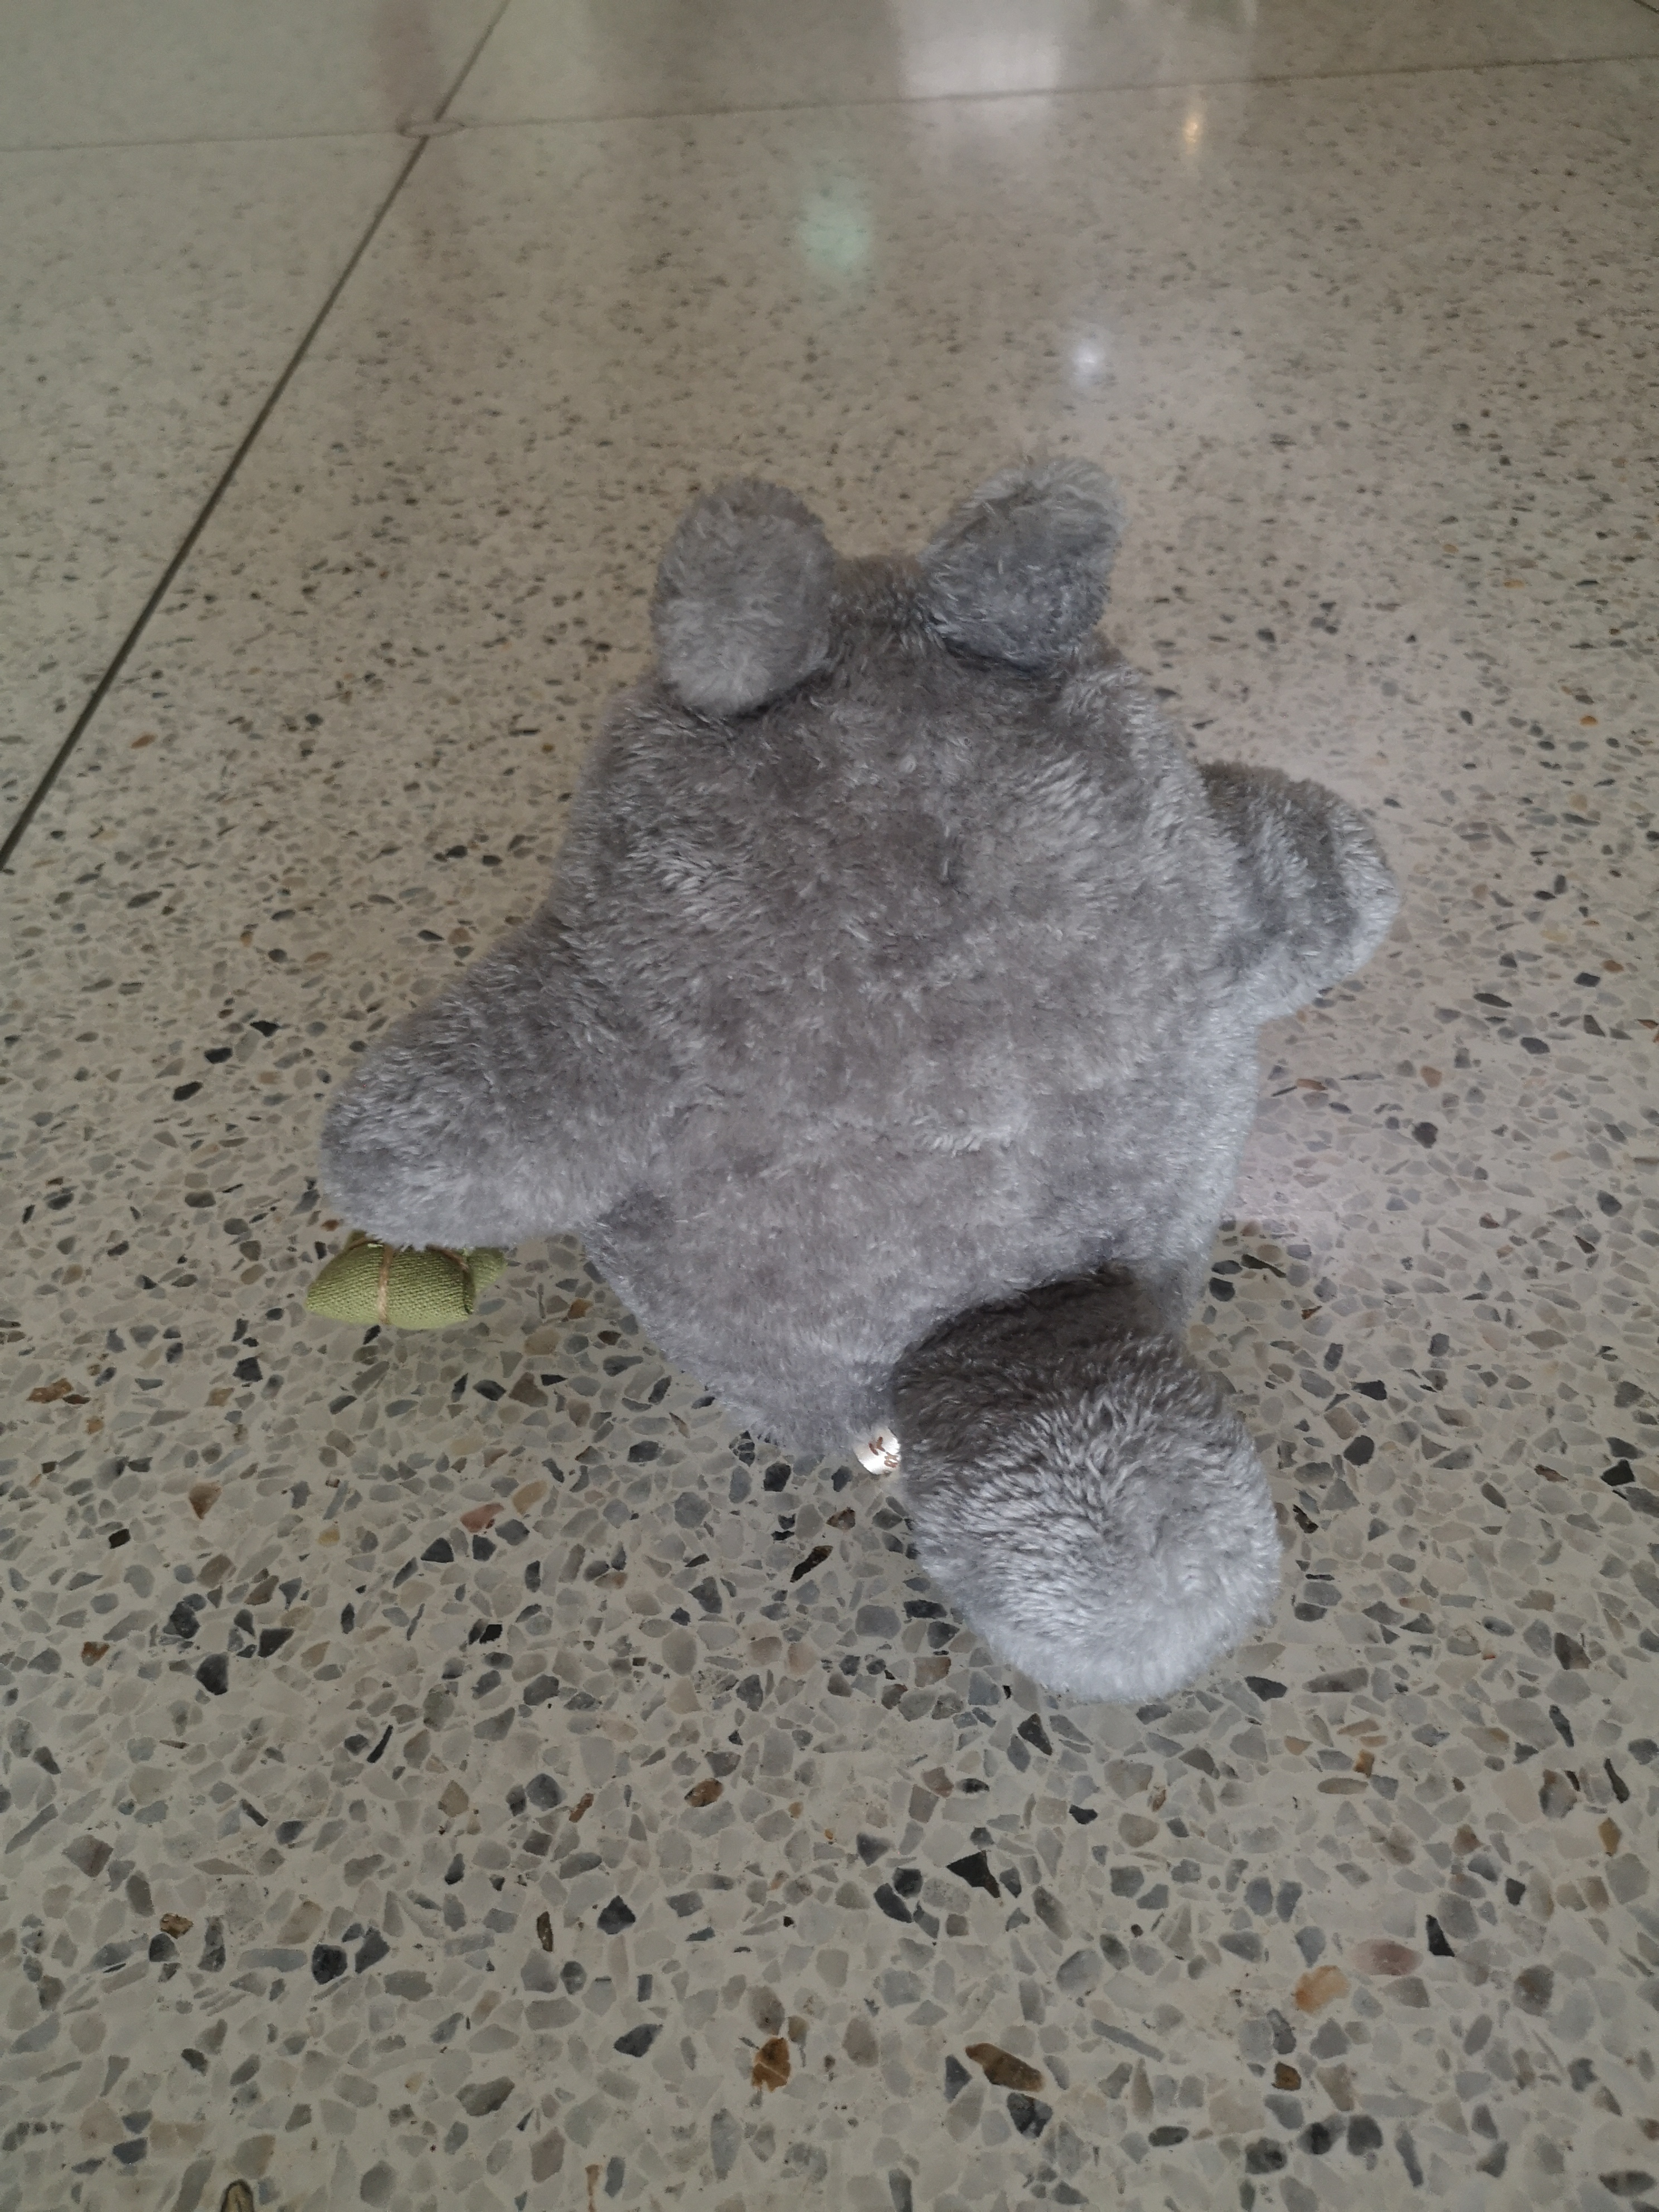totoro: (300, 472, 1410, 1712)
